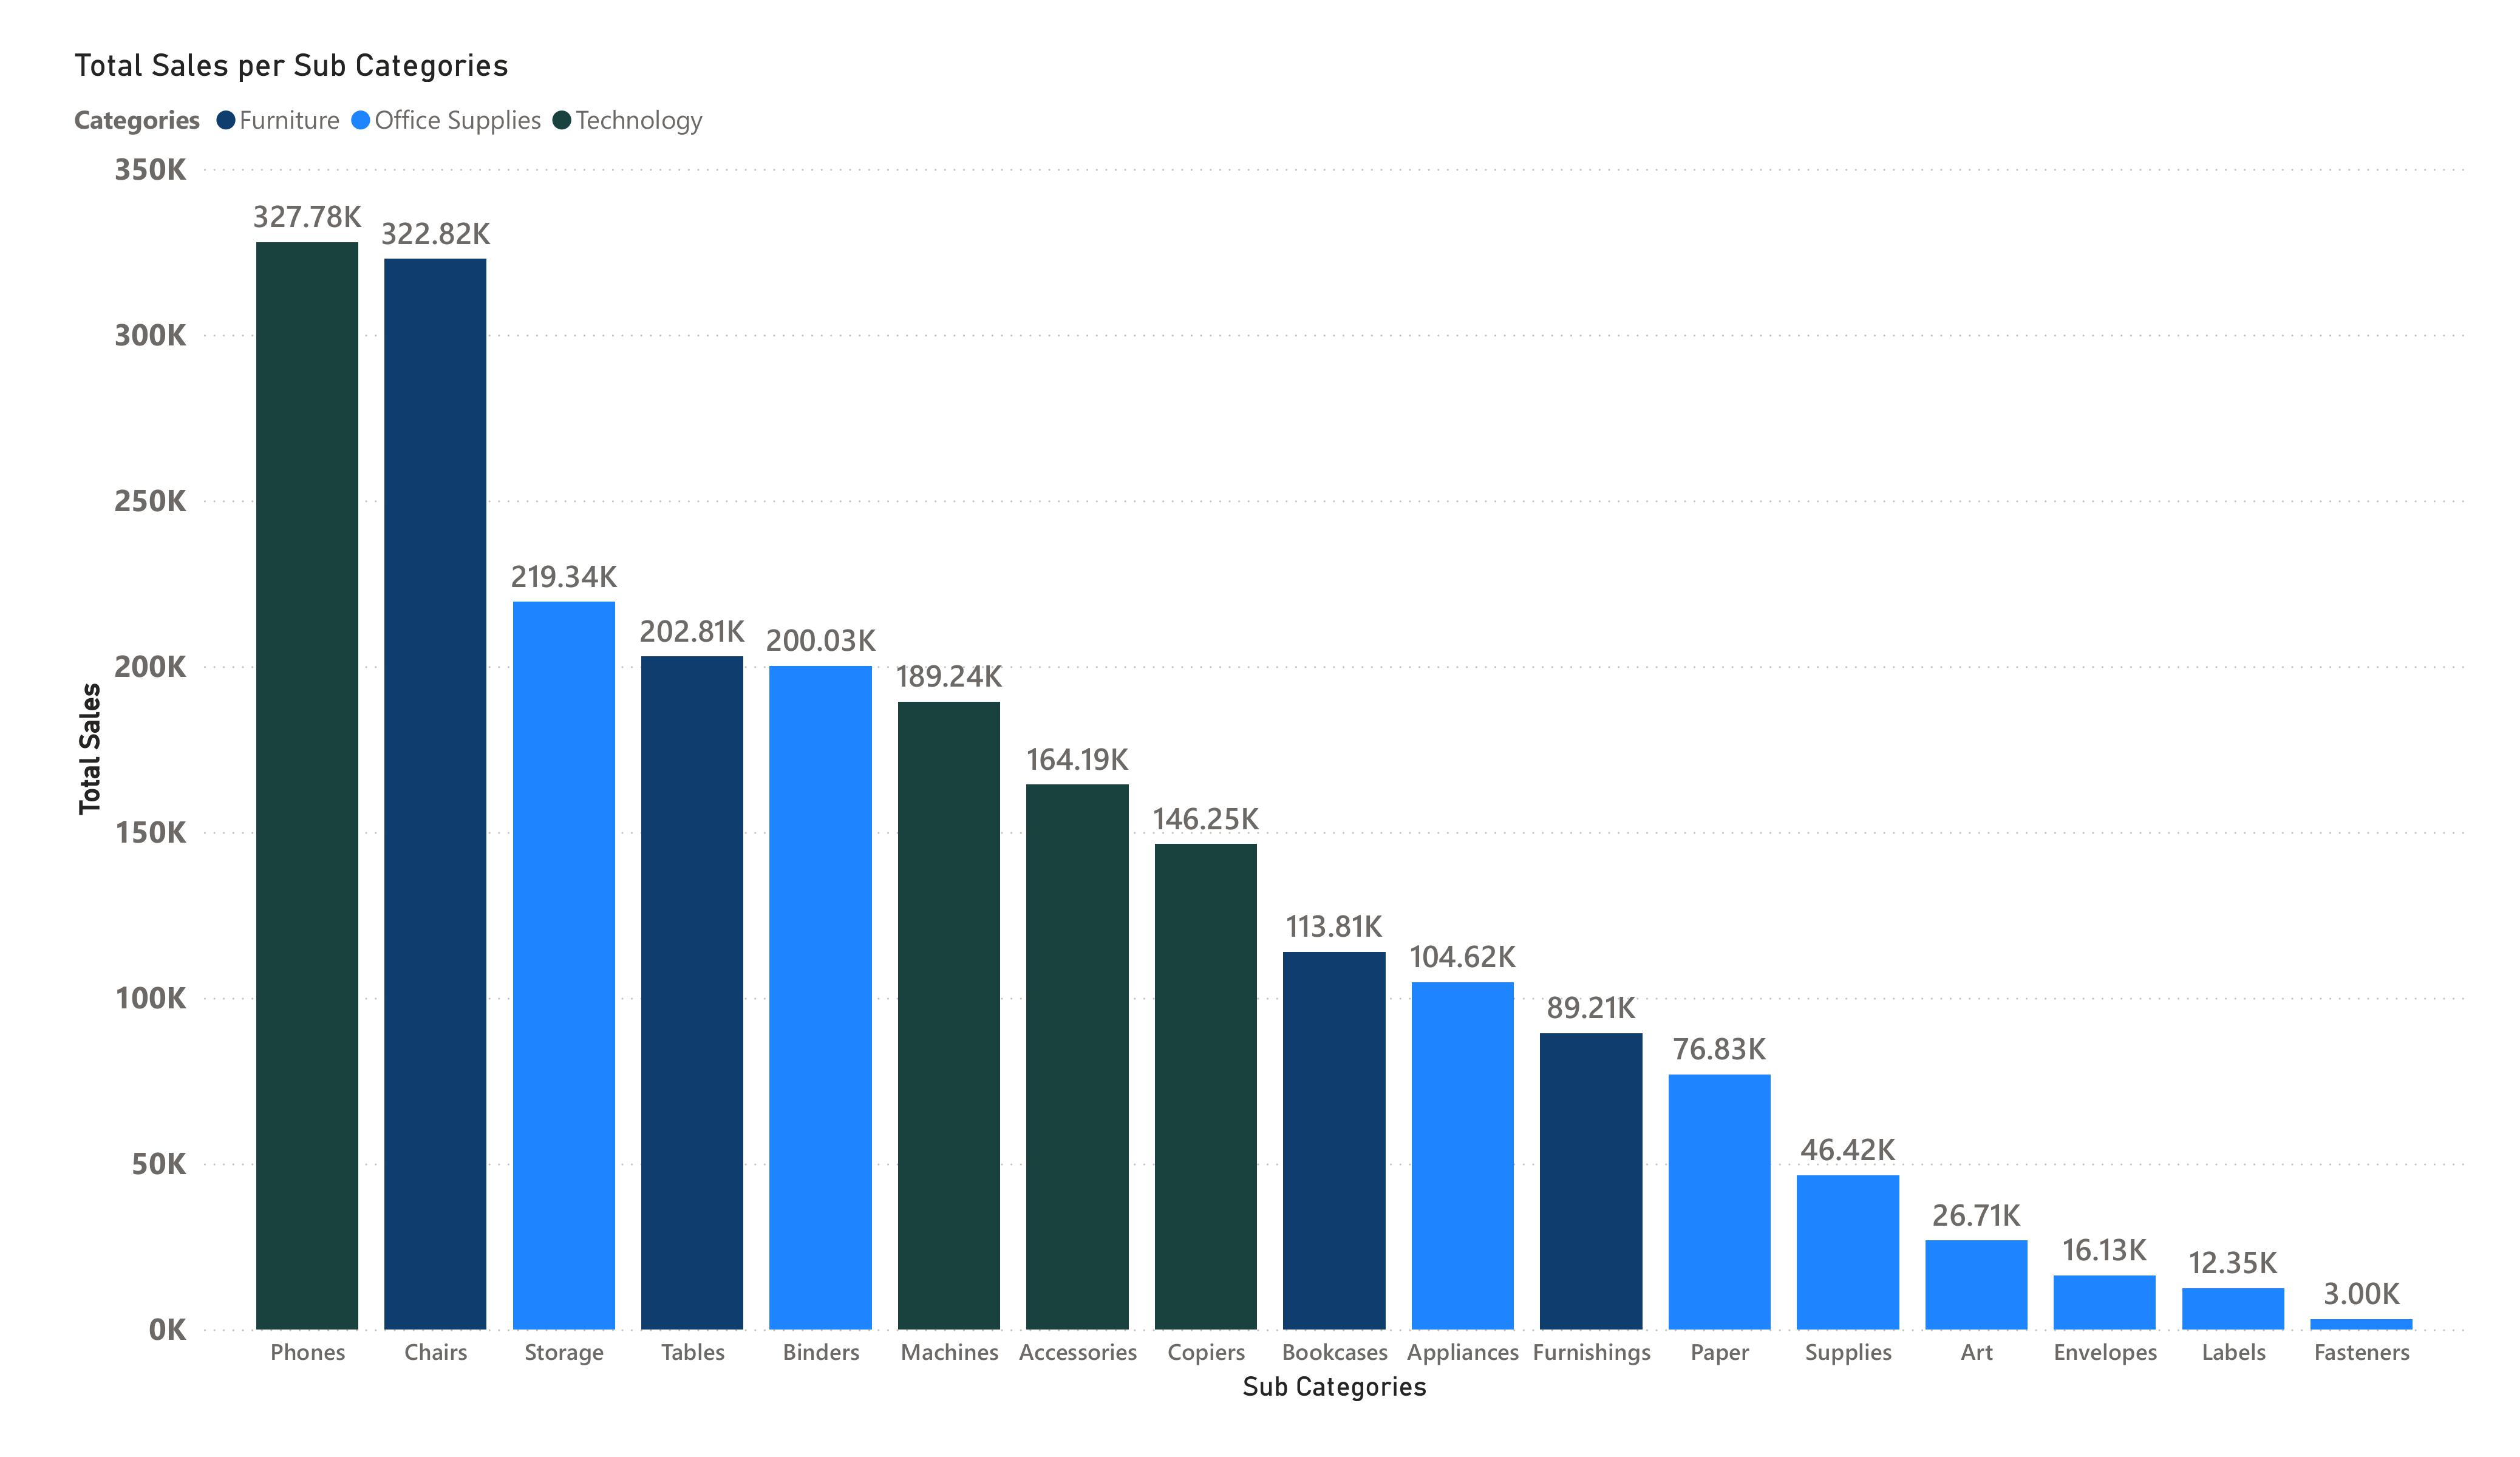

This screenshot's page, from the dashboard's own definition file:
{"tool":"powerbi","page":{"name":"Page 1","canvas":[1280,720],"ordinal":0},"visuals":[{"type":"columnChart","title":"Total Sales per Sub Categories","fields":{"Category":["Query1.SubCategory"],"Y":["Sum(Query1.total_sales)"],"Series":["Query1.Category"]},"box":[10,0,1270,720],"z":0}]}

Visuals, with their boxes on the page's 1280x720 design canvas (x1, y1, x2, y2). These are canvas units, not pixel positions in the 2520x1457 screenshot, which may show the page scaled, cropped or inside an application window:
"Total Sales per Sub Categories" columnChart: rect(10, 0, 1280, 720)
